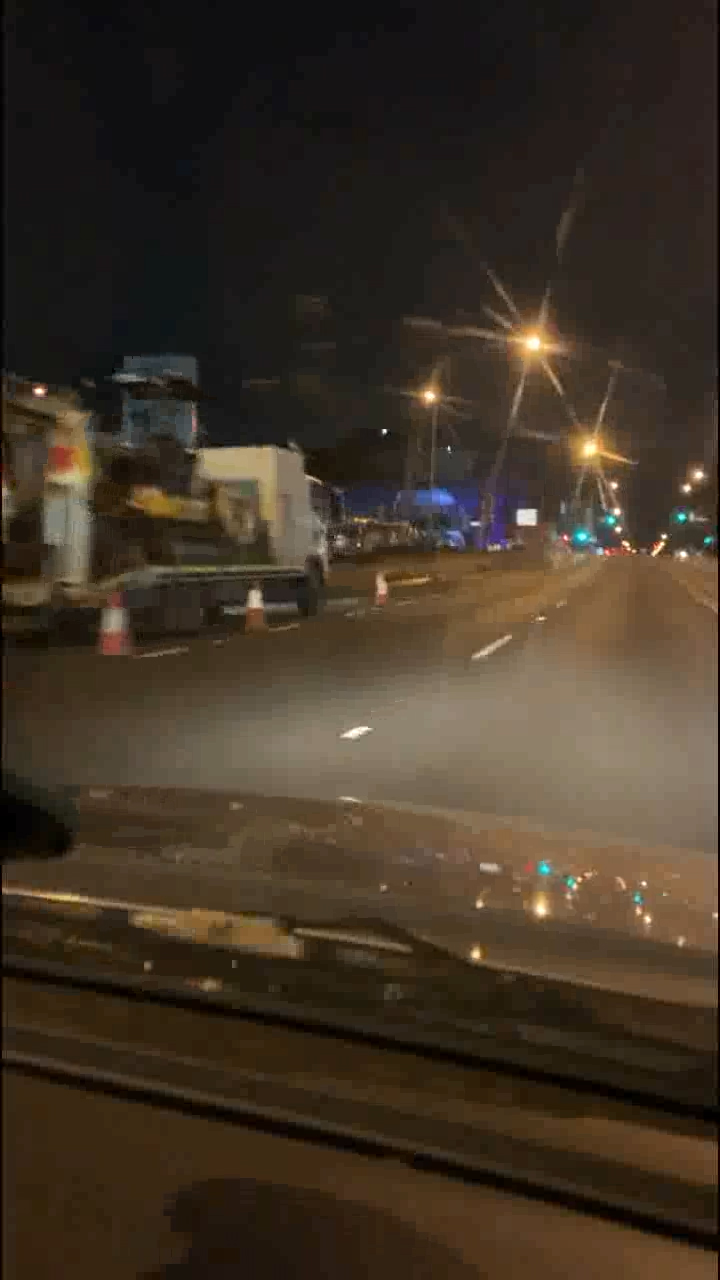truck: (5, 363, 368, 647)
